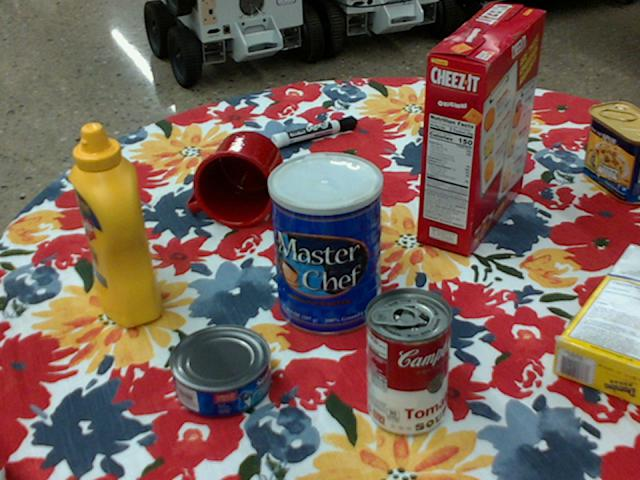cracker_box: (420, 4, 545, 255)
gelatin_box: (428, 105, 496, 156)
large_marker: (270, 114, 356, 147)
master_chef_can: (267, 152, 382, 336)
mug: (187, 130, 281, 229)
mustard_bottle: (69, 124, 163, 327)
potted_meat_can: (582, 101, 639, 203)
sugar_box: (553, 244, 639, 404)
tomato_soup_can: (365, 286, 452, 436)
tuna_fish_can: (166, 324, 268, 417)
